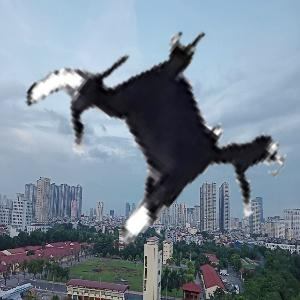drone: (13, 1, 295, 283)
